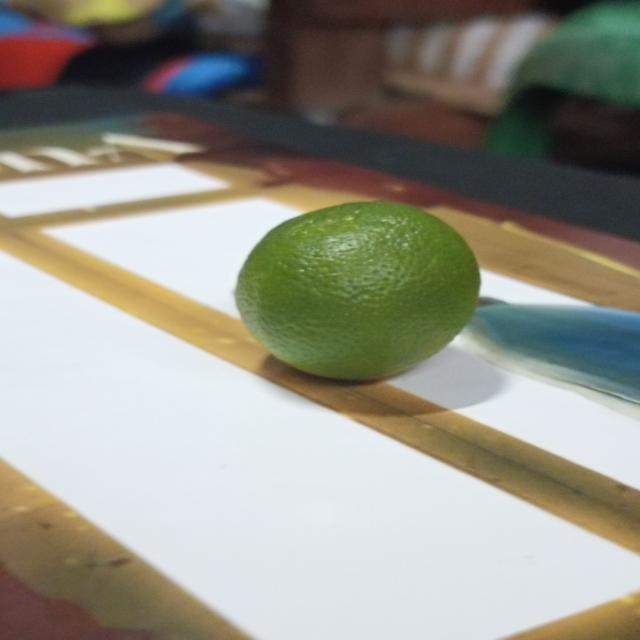heathy: (228, 199, 488, 384)
